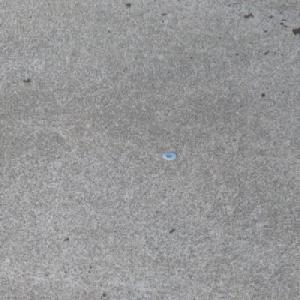Washer: (162, 151, 178, 160)
